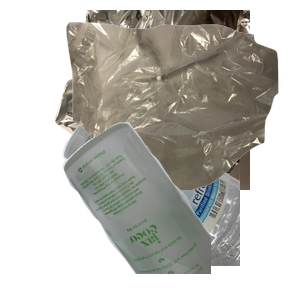glass: (60, 120, 300, 300)
metal: (52, 10, 292, 190)
plastic: (60, 120, 300, 300)
trash: (64, 20, 300, 200)
